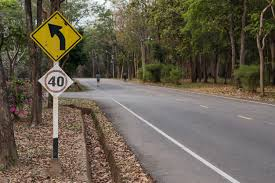curveLeft: (26, 8, 87, 63)
